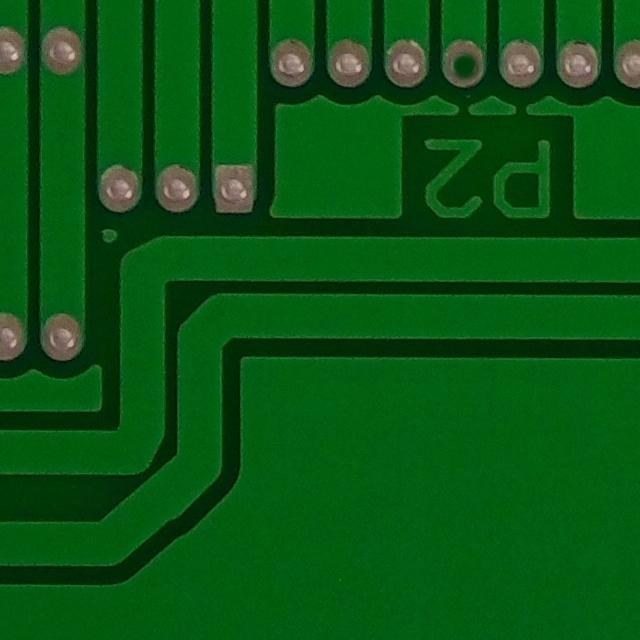missing_hole: (435, 35, 495, 95)
